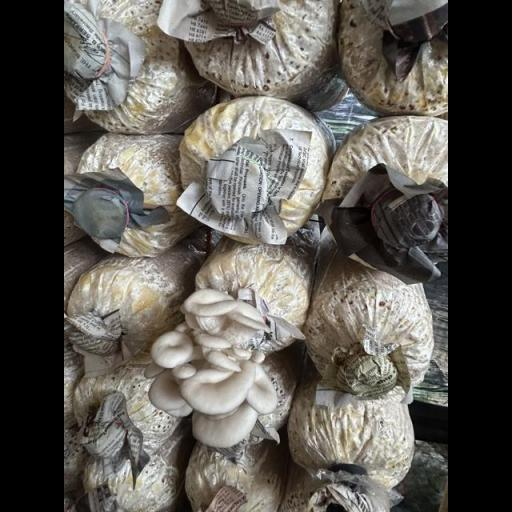White Oyster Mushroom: (145, 287, 293, 447)
